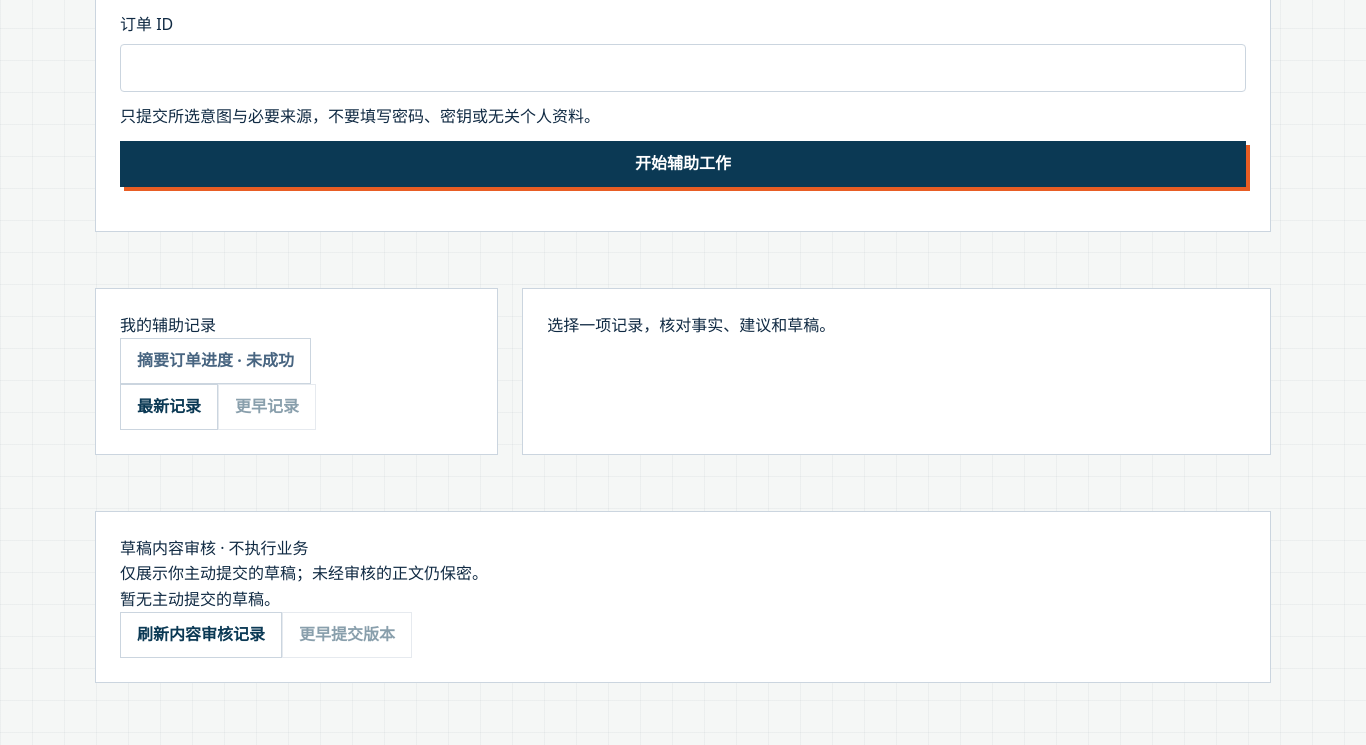
Test case: CopilotWorkspace › clearly reports missing provider configuration instead of fabricated output
The image size is (1366, 745).
(page scrolled)
Click the button "摘要订单进度 · 未成功" at (215, 361), box [120,338,311,384]
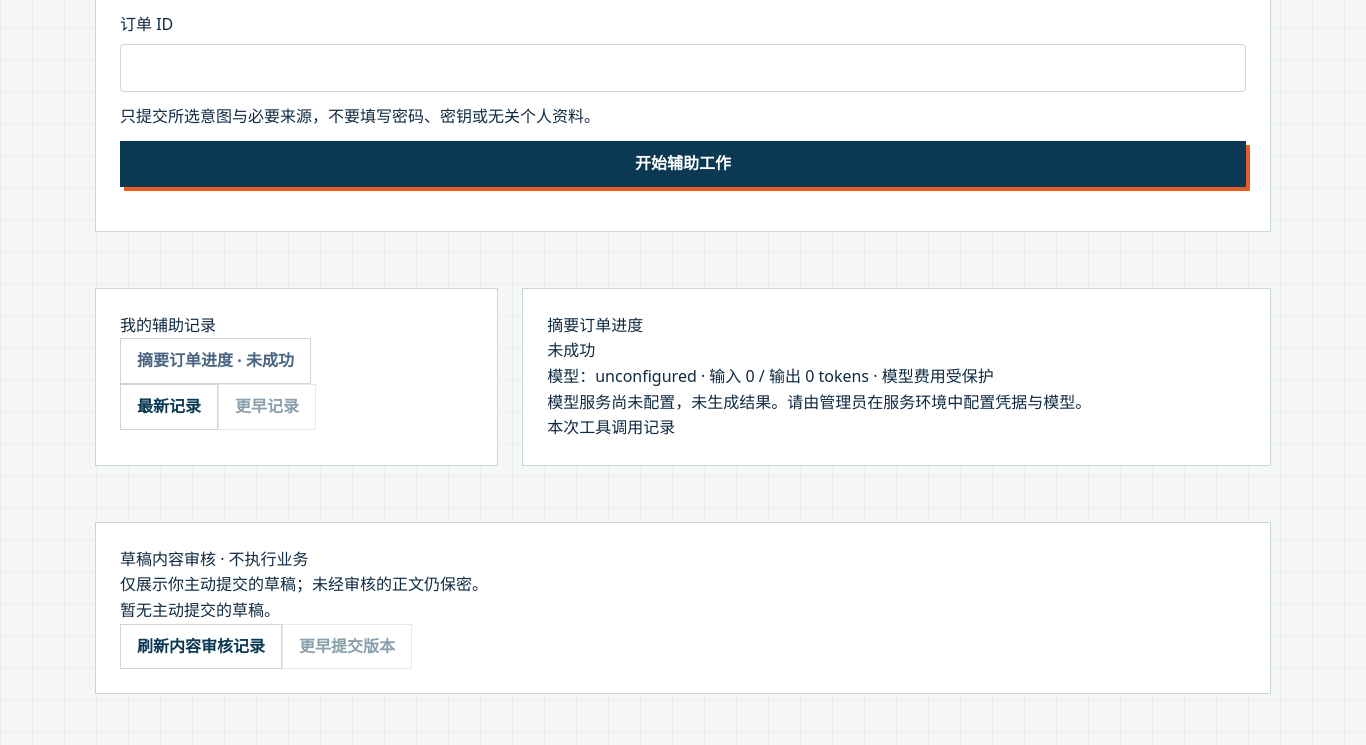
Expected: the message "模型服务尚未配置，未生成结果。请由管理员在服务环境中配置凭据与模型。" is shown, [547,391,1091,413]
